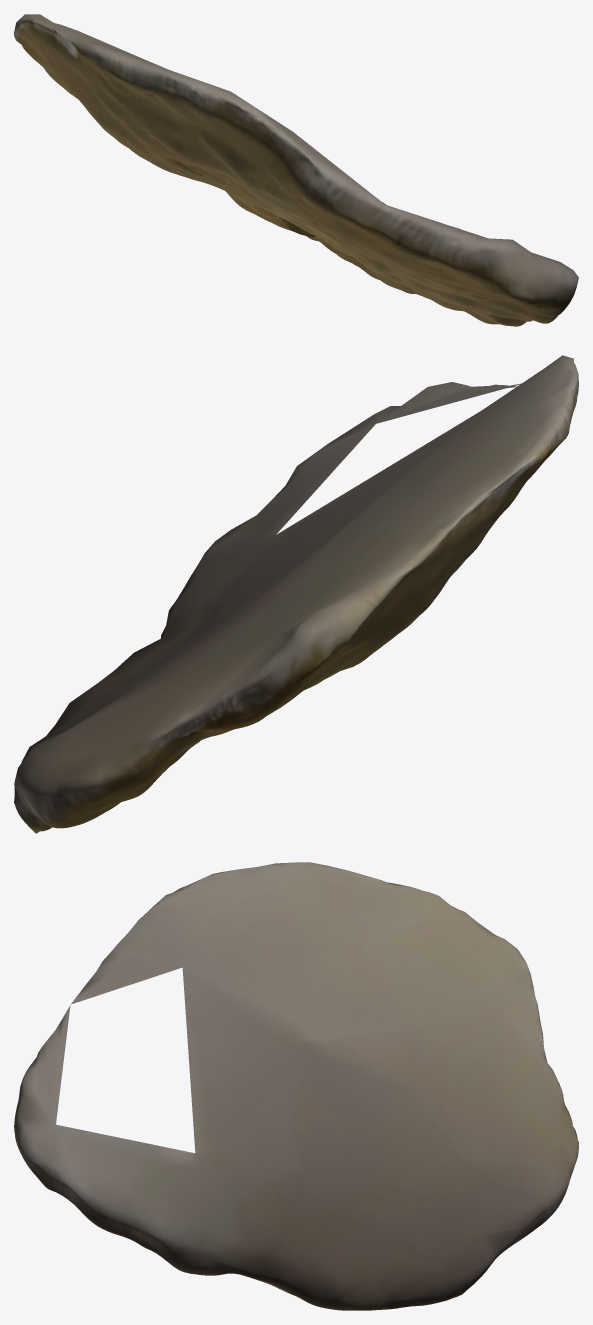
3 renders of one model, top to bottom at view 1: azimuth 30°, elevation 25°; view 2: azimuth 150°, elevation 25°; view 3: azimuth 270°, elevation 25°, orthographic. The views are drawn at different scales.
Size of the model in its own units: 0.3524 by 0.3087 by 0.522.
1 material, 1 textured.
